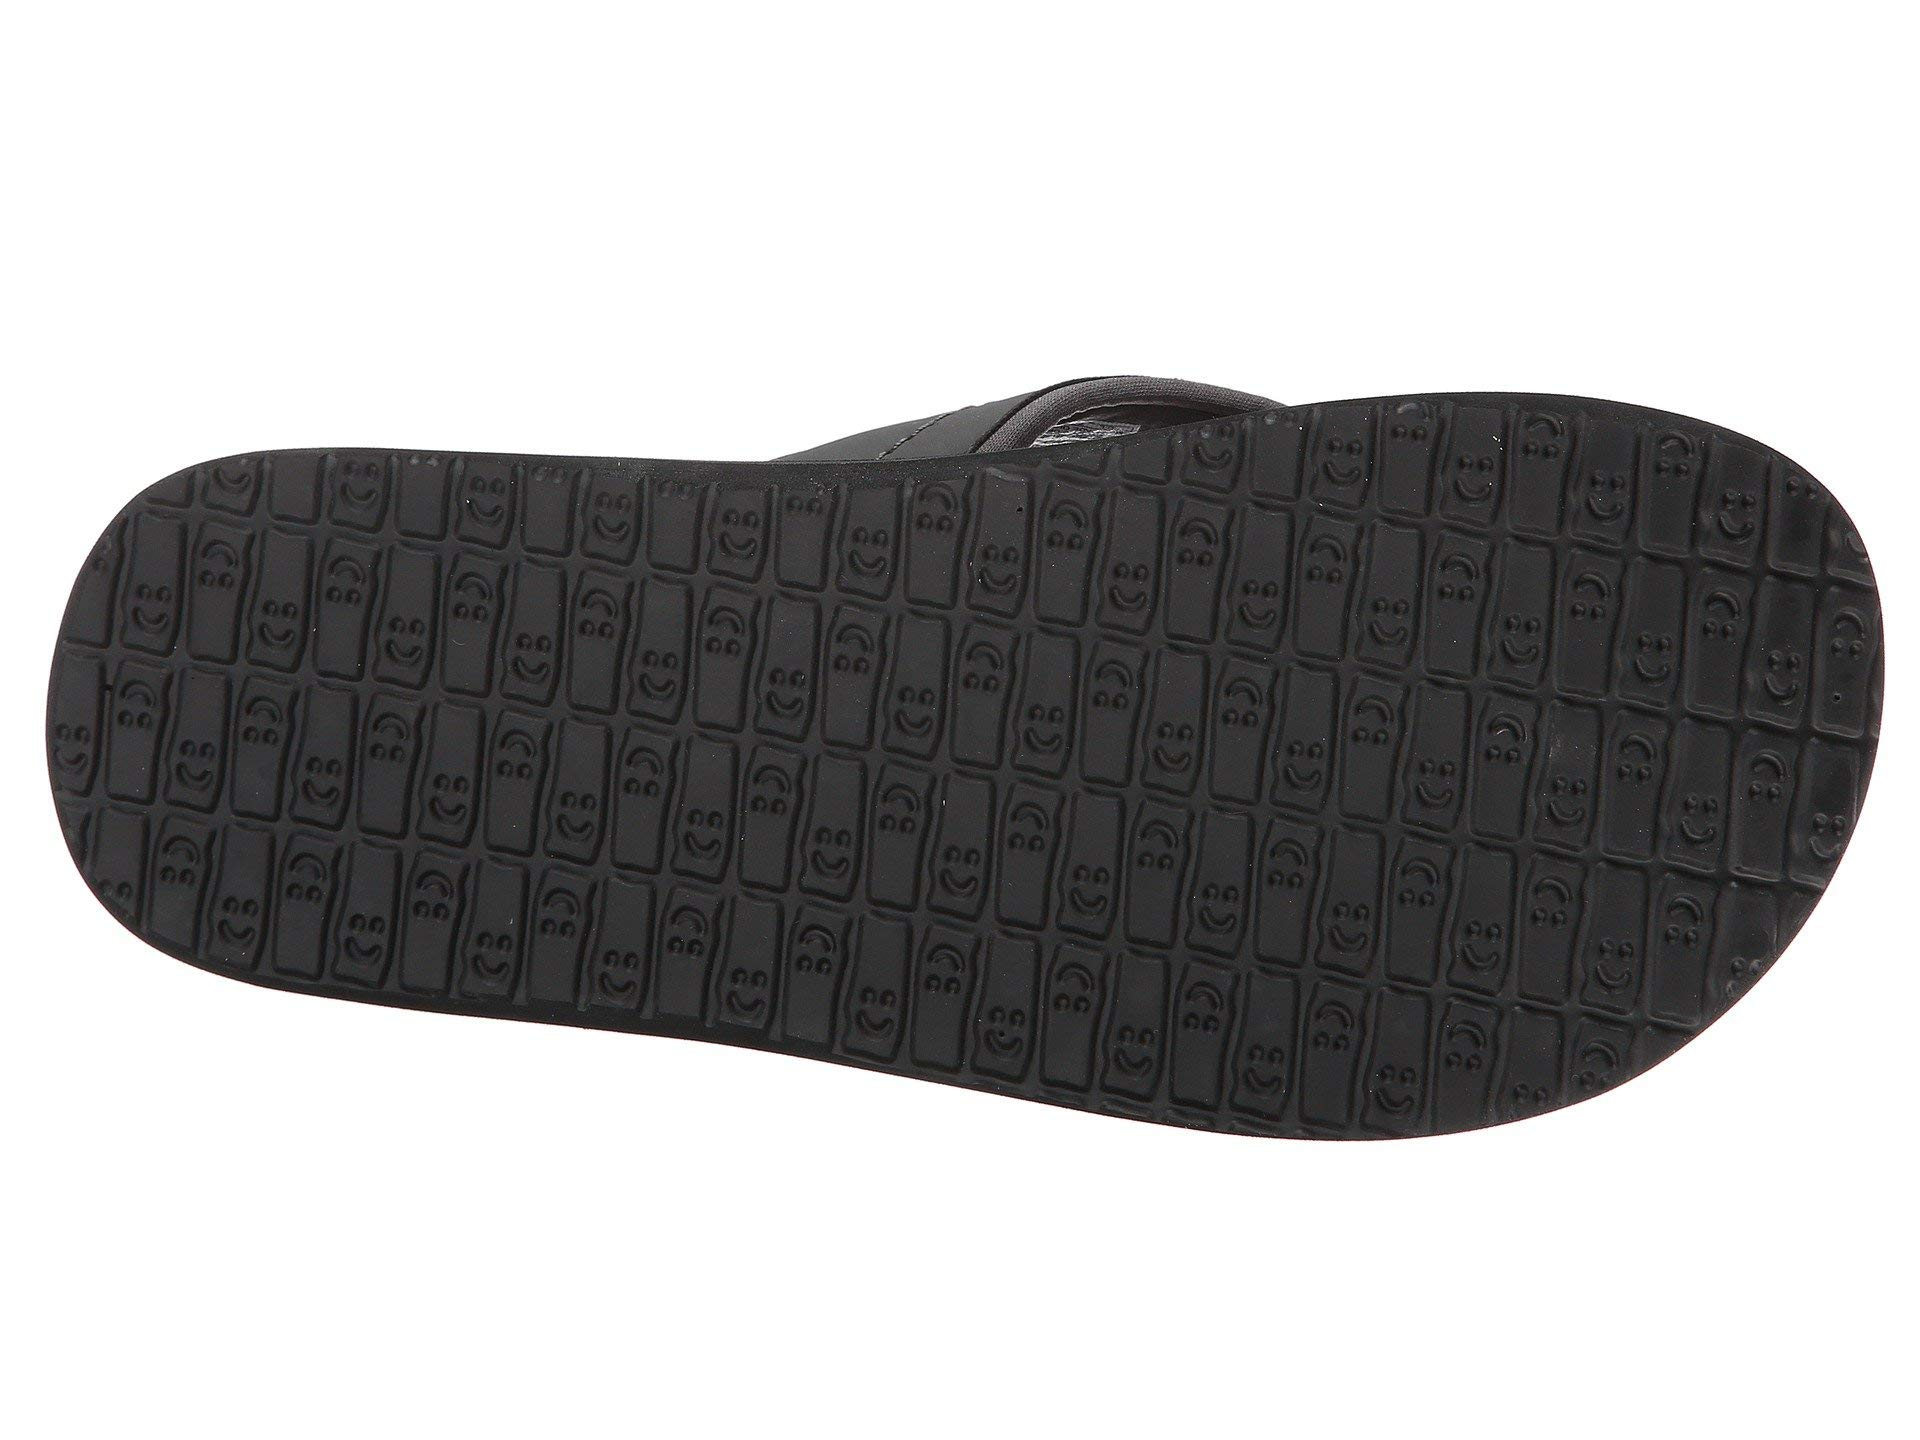circle: (290, 455, 1717, 988)
line: (290, 455, 1717, 988)
quad: (290, 455, 1717, 988)
